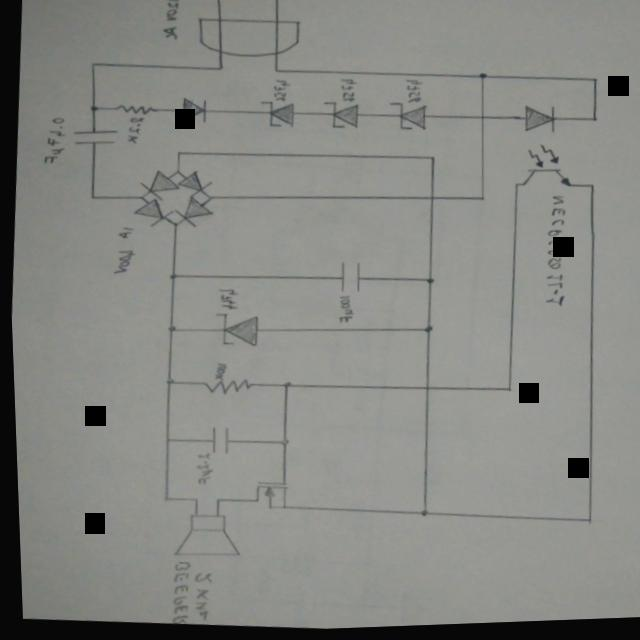capacitor: (68, 122, 118, 153), (332, 260, 365, 297), (202, 424, 232, 455)
crossover: (477, 114, 486, 124), (419, 385, 428, 394), (425, 196, 435, 204)
diode: (209, 311, 256, 350), (385, 102, 426, 134), (137, 168, 178, 200), (172, 196, 212, 228), (130, 196, 171, 227), (319, 100, 358, 131), (257, 100, 293, 129), (176, 171, 210, 198), (178, 96, 207, 125)
junction: (273, 435, 289, 449), (276, 380, 290, 392), (85, 102, 99, 114), (412, 510, 426, 521), (418, 325, 431, 336), (421, 276, 434, 287), (475, 73, 488, 84), (156, 494, 168, 505), (163, 323, 175, 334), (212, 64, 224, 74), (160, 376, 173, 385), (164, 271, 177, 280), (87, 59, 97, 70), (269, 66, 280, 76), (499, 387, 510, 396), (159, 435, 170, 444), (579, 519, 590, 528), (205, 193, 214, 203), (587, 117, 597, 126), (584, 185, 595, 193), (169, 219, 178, 228), (187, 496, 195, 504), (476, 196, 484, 204), (172, 168, 180, 176), (589, 79, 598, 86), (426, 156, 434, 163), (511, 183, 518, 190), (210, 498, 217, 504), (173, 149, 180, 155), (86, 193, 93, 199), (136, 193, 142, 199)
resistor: (197, 376, 249, 397), (111, 101, 155, 115)
terminal: (214, 0, 223, 5), (272, 0, 281, 5)
text: (538, 195, 569, 310), (163, 560, 189, 625), (39, 113, 68, 164), (185, 571, 211, 623), (158, 0, 182, 41), (108, 245, 135, 278), (189, 451, 210, 485), (402, 78, 424, 106), (214, 287, 238, 312), (333, 295, 353, 325), (124, 115, 143, 145), (337, 78, 357, 104), (271, 78, 289, 103), (114, 222, 132, 240), (209, 361, 224, 381)
transistor: (246, 479, 290, 516)
